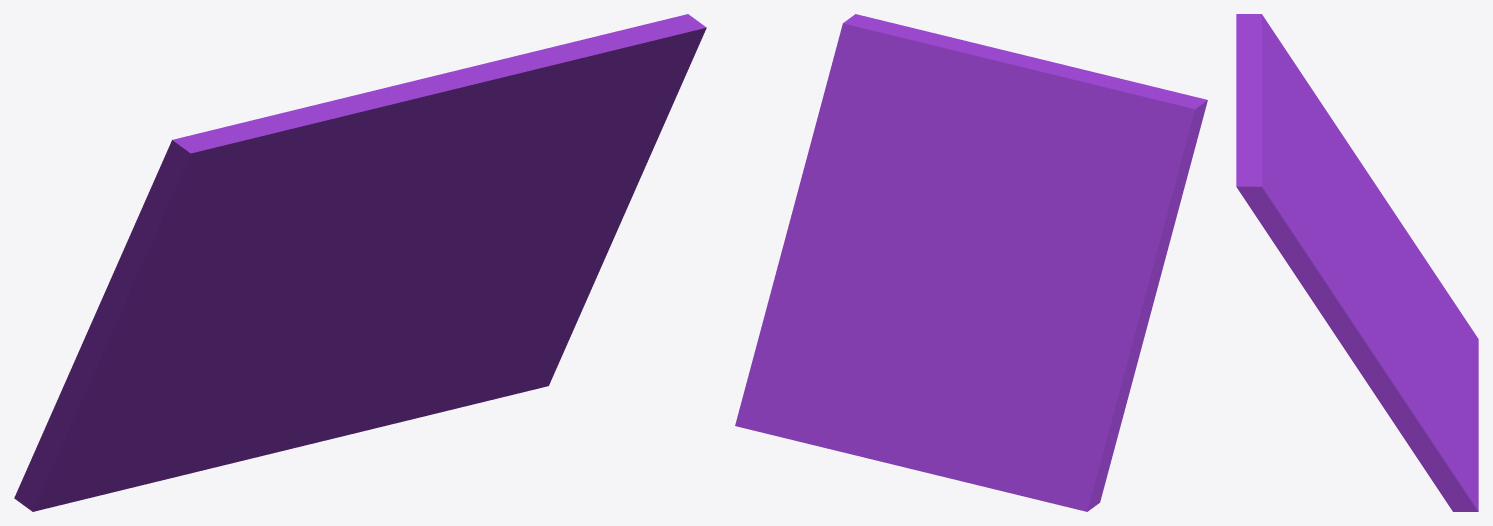
Rendered from Window_23_chunks.fbx.
3 renders of one model, left to right at view 1: azimuth 30°, elevation 25°; view 2: azimuth 150°, elevation 25°; view 3: azimuth 270°, elevation 25°, orthographic. The views are drawn at different scales.
Parts seen in each view (by area): view 1: Window_23_6, Window_23_5, Window_23_32, Window_23_0, Window_23_17, Window_23_1, Window_23_26, Window_23_15, Window_23_19, Window_23_12, Window_23_18, Window_23_27 (+21 smaller); view 2: Window_23_35, Window_23_5, Window_23_6, Window_23_14, Window_23_4, Window_23_8, Window_23_17, Window_23_24, Window_23_30, Window_23_18, Window_23_16, Window_23_31 (+19 smaller); view 3: Window_23_5, Window_23_30, Window_23_35, Window_23_6, Window_23_16, Window_23_17, Window_23_14, Window_23_4, Window_23_15, Window_23_8, Window_23_20, Window_23_24 (+20 smaller).
Part boxes in pixels (left/top/right/bottom): Window_23_6: left=14, top=306, right=184, bottom=501; Window_23_5: left=451, top=227, right=618, bottom=401; Window_23_32: left=114, top=182, right=296, bottom=325; Window_23_0: left=405, top=50, right=612, bottom=184; Window_23_17: left=169, top=118, right=320, bottom=232; Window_23_1: left=19, top=349, right=254, bottom=511; Window_23_26: left=270, top=314, right=468, bottom=399; Window_23_15: left=522, top=14, right=706, bottom=181; Window_23_19: left=265, top=84, right=469, bottom=167; Window_23_12: left=252, top=168, right=409, bottom=262; Window_23_18: left=292, top=71, right=469, bottom=215; Window_23_27: left=303, top=271, right=417, bottom=350; Window_23_35: left=1043, top=117, right=1194, bottom=299; Window_23_5: left=735, top=224, right=858, bottom=440; Window_23_6: left=1039, top=296, right=1154, bottom=511; Window_23_14: left=902, top=65, right=1004, bottom=184; Window_23_4: left=840, top=243, right=968, bottom=395; Window_23_8: left=962, top=255, right=1065, bottom=428; Window_23_17: left=1070, top=87, right=1207, bottom=187; Window_23_24: left=794, top=388, right=923, bottom=465; Window_23_30: left=789, top=75, right=851, bottom=250; Window_23_18: left=1003, top=54, right=1079, bottom=184; Window_23_16: left=857, top=15, right=1003, bottom=92; Window_23_31: left=818, top=223, right=964, bottom=288; Window_23_5: left=1356, top=345, right=1478, bottom=511; Window_23_30: left=1271, top=228, right=1379, bottom=353; Window_23_35: left=1266, top=21, right=1364, bottom=211; Window_23_6: left=1362, top=165, right=1478, bottom=341; Window_23_16: left=1236, top=108, right=1287, bottom=183; Window_23_17: left=1236, top=14, right=1316, bottom=142; Window_23_14: left=1263, top=110, right=1332, bottom=233; Window_23_4: left=1358, top=247, right=1449, bottom=423; Window_23_15: left=1236, top=180, right=1315, bottom=229; Window_23_8: left=1364, top=238, right=1441, bottom=316; Window_23_20: left=1245, top=43, right=1284, bottom=101; Window_23_24: left=1442, top=381, right=1478, bottom=481.
Size of the model in its own units: 1059 by 930 by 628.
